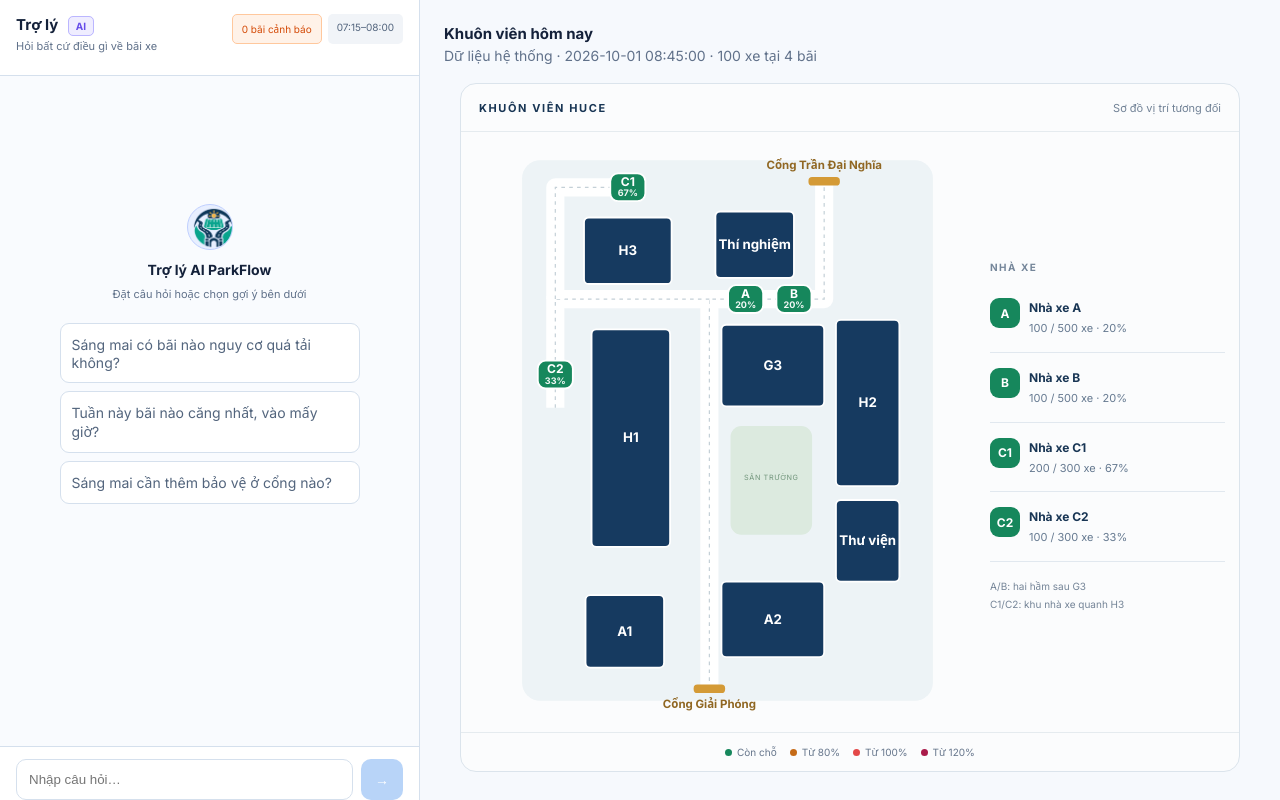
Test: AssistantPage › uses the lot named in the answer instead of always showing the first lot
Type "Sáng mai bãi nào nguy cơ quá tải?" into the field labelled "Nhập câu hỏi" at (184, 780), box top-left (16, 759), bottom-right (353, 799)
(page scrolled)
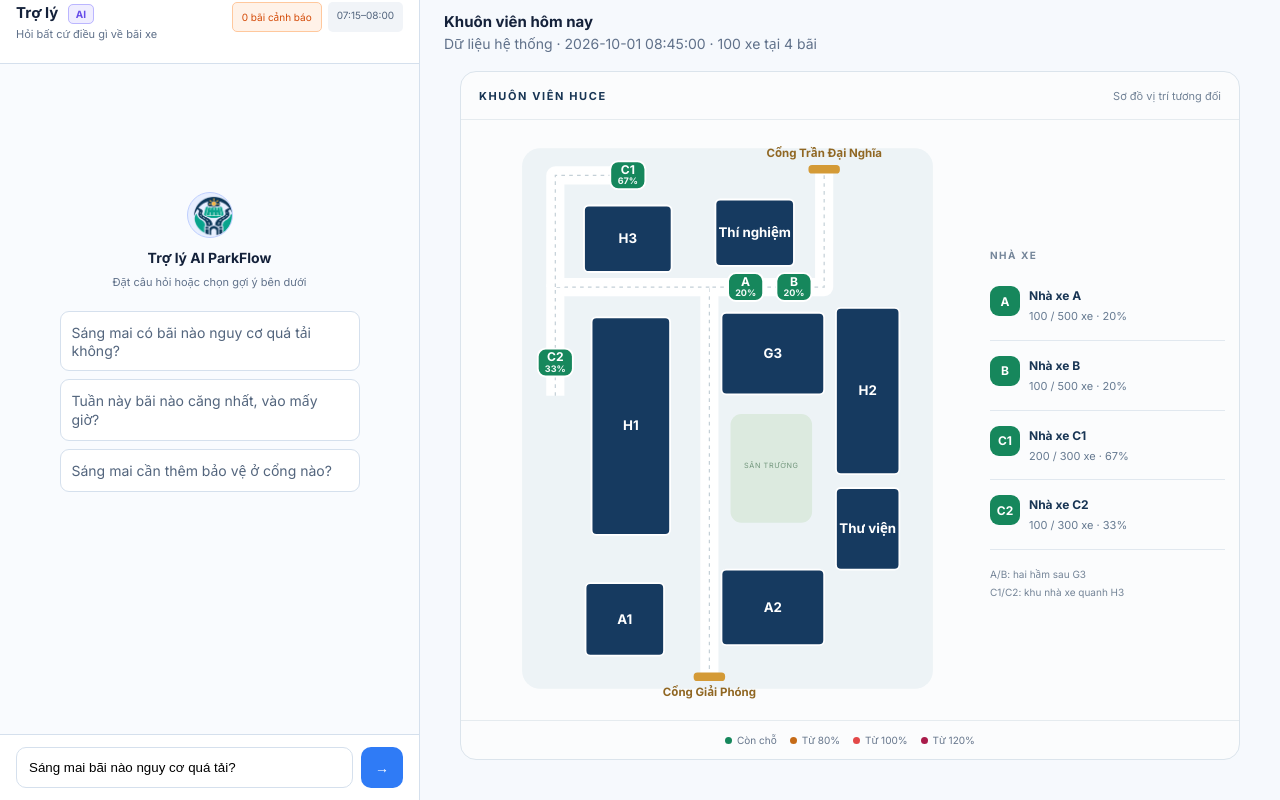
Submit the form named "Nhập câu hỏi", box top-left (0, 734), bottom-right (419, 799)
(page scrolled)
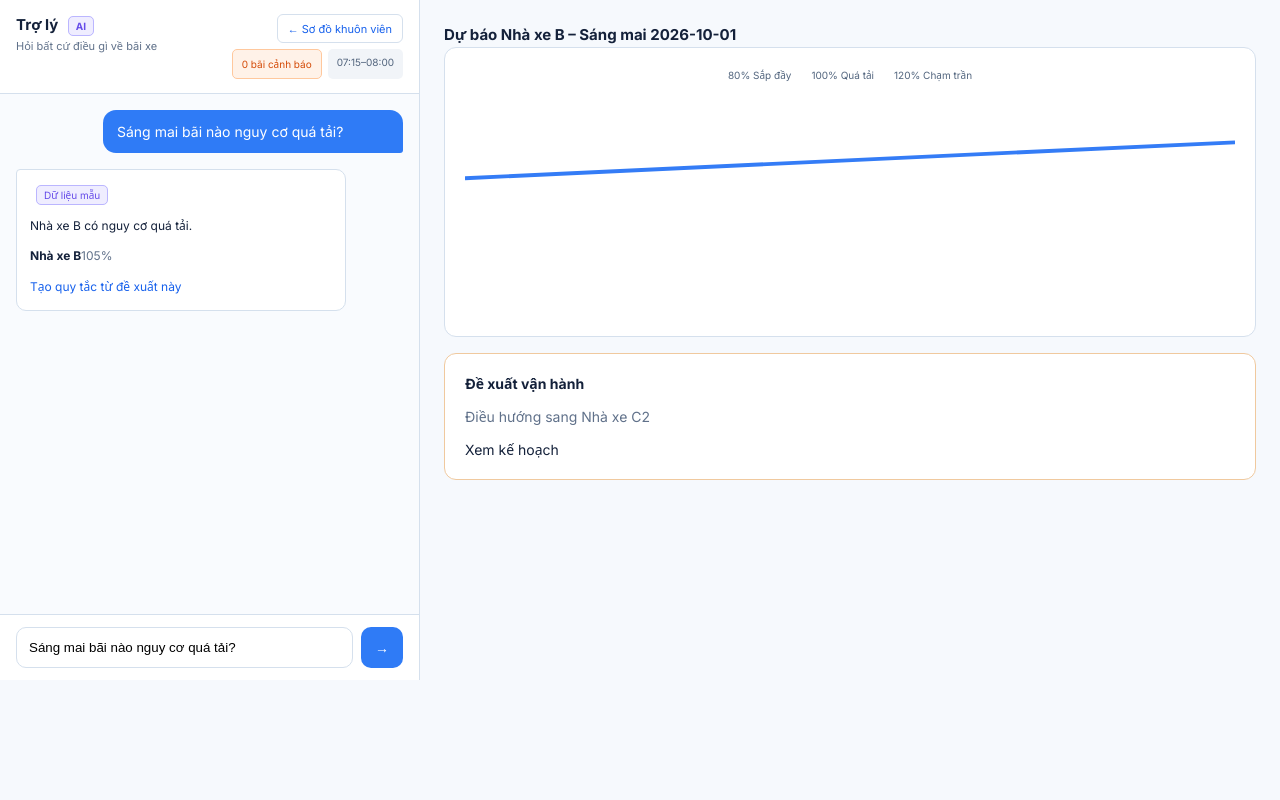
Result: the text "Nhà xe B có nguy cơ quá tải." is shown at top-left (30, 218), bottom-right (192, 233)
Result: the heading "Dự báo Nhà xe B – Sáng mai 2026-10-01" is shown at top-left (444, 25), bottom-right (736, 44)
